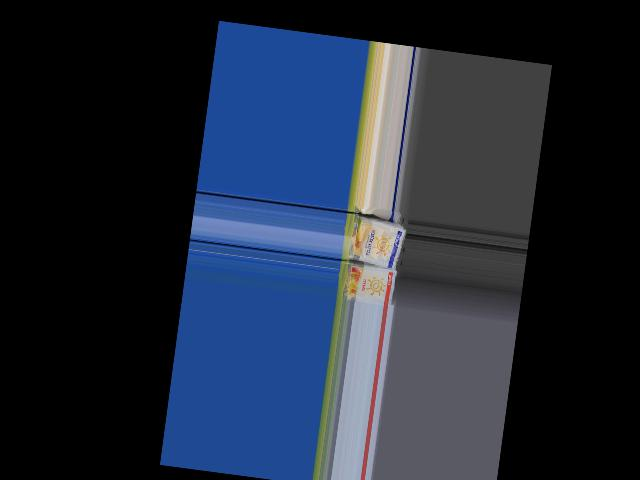cheese: (335, 262, 399, 307)
